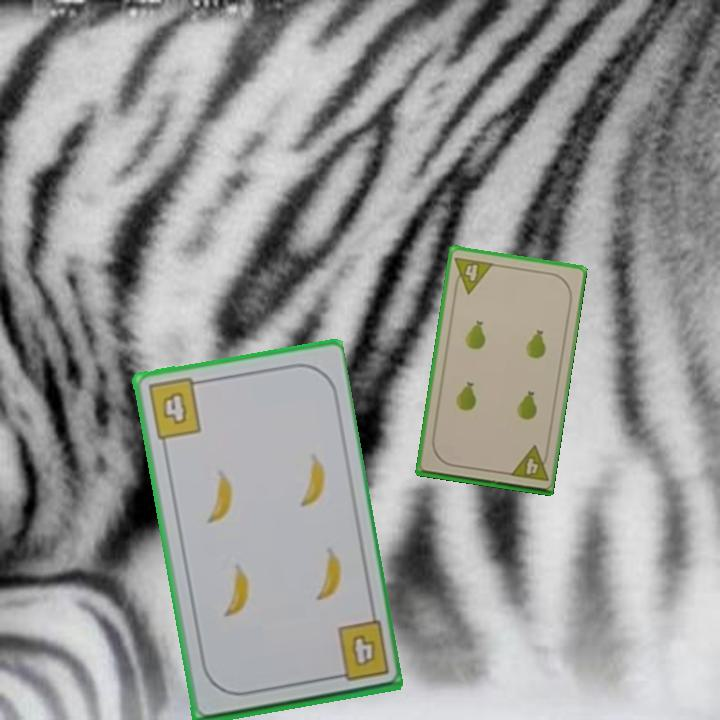4b: (326, 617, 392, 685), (144, 375, 206, 442)
4p: (450, 253, 496, 296), (505, 442, 552, 484)
